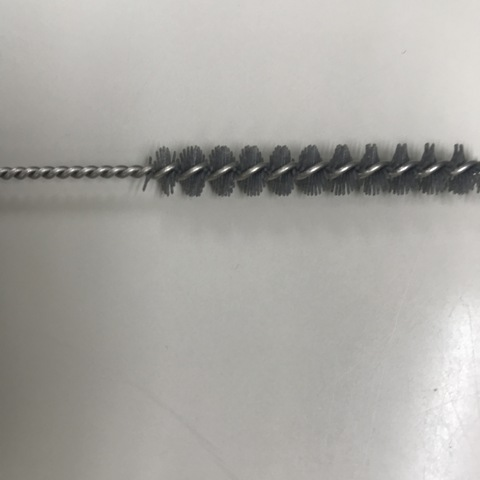Twist Brush-A: (1, 142, 478, 194)
